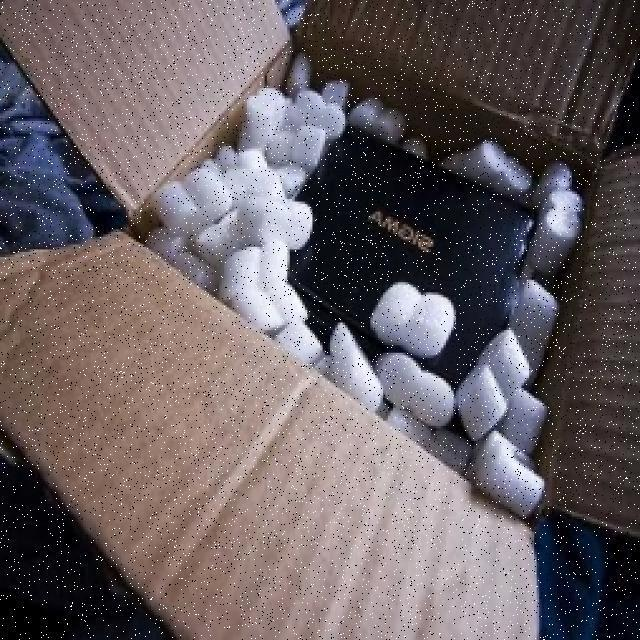box: (0, 0, 640, 640), (262, 96, 536, 414)
